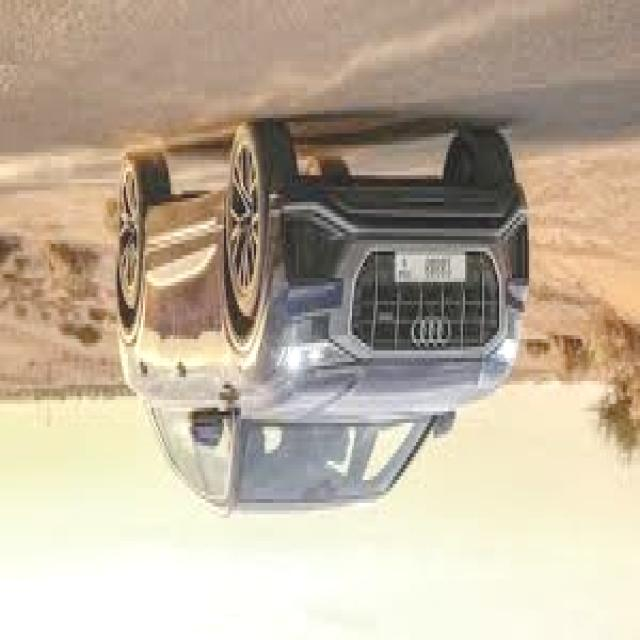black: (110, 115, 531, 509)
